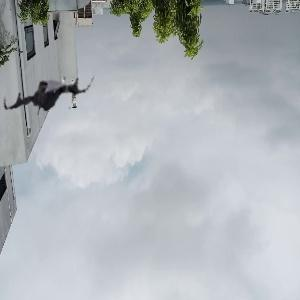drone: (4, 52, 94, 142)
